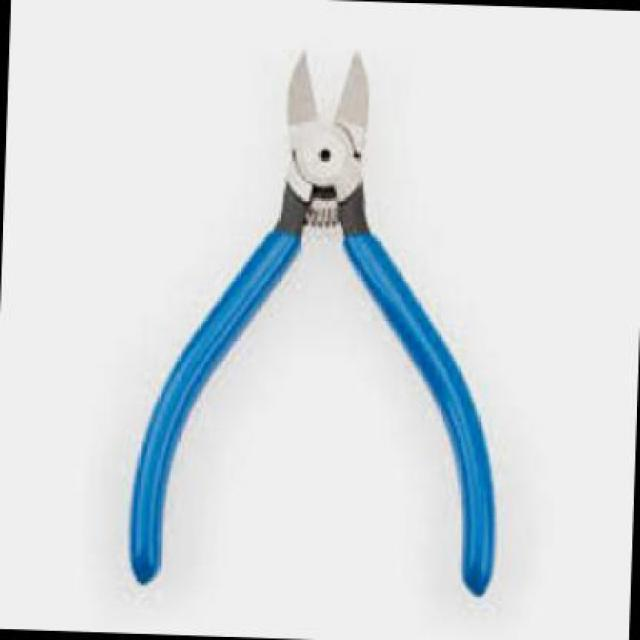pliers: (78, 38, 534, 620)
